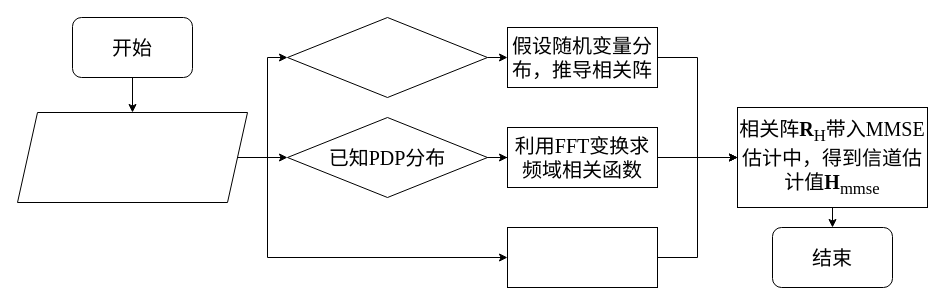
Image size: 945x305. Some labels were removed from this diagram. The shapes that lost their labels are listed below. From the top down, each one's box as (x1, y1, x2, y2) in pixels, then its label:
(286, 16, 488, 98): 已知最大时延扩展
(16, 112, 248, 202): 输入已知参数（时延扩展、PDP分布、 H ls ）
(506, 226, 658, 288): 对 H ls 求相关得到相关阵
